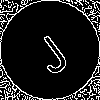J: (25, 25, 73, 78)
